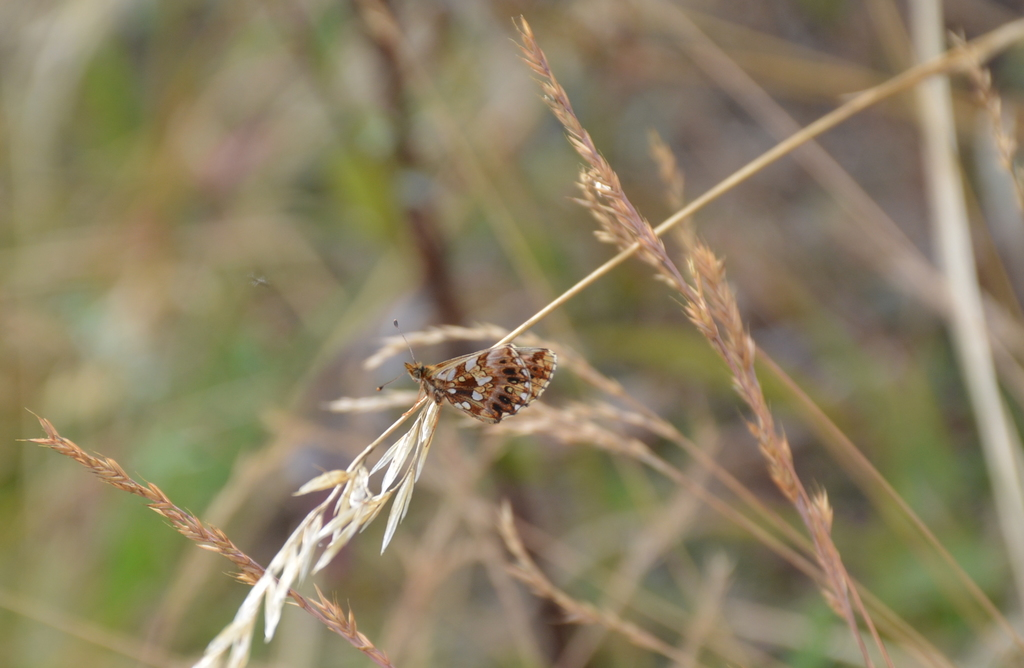Butterfly: (398, 331, 559, 429)
